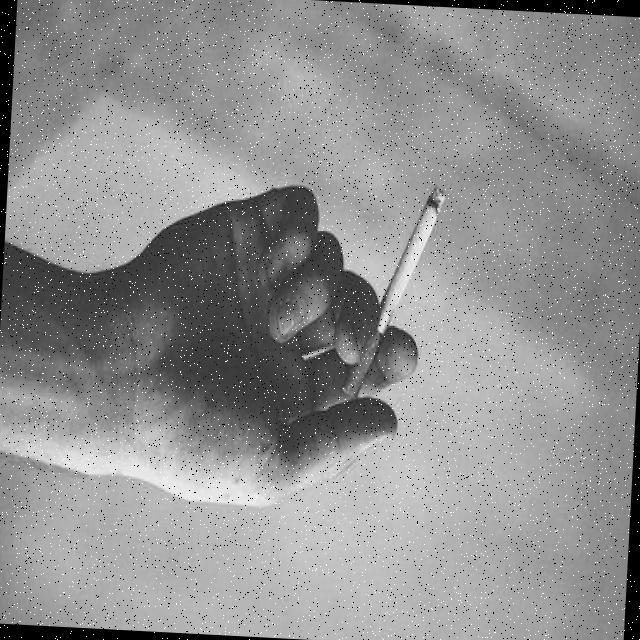cigarette: (336, 178, 446, 413)
